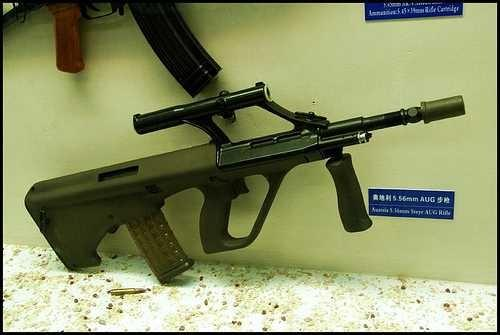heavyweapon: (22, 62, 471, 286)
